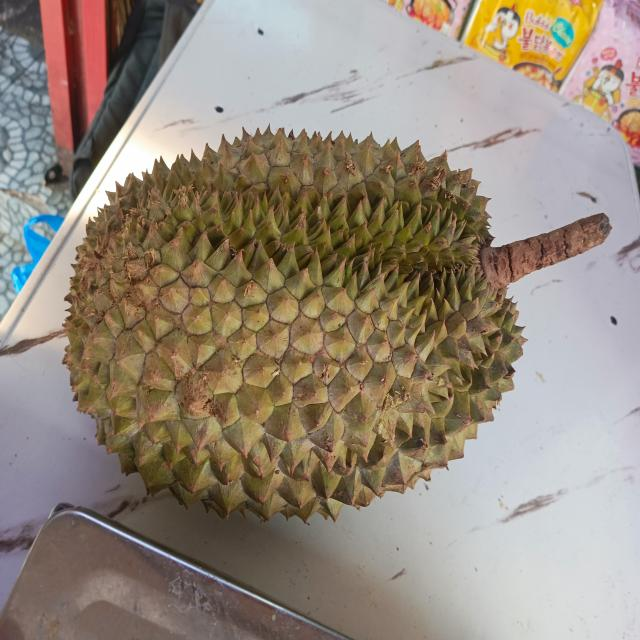mature: (64, 128, 525, 522)
